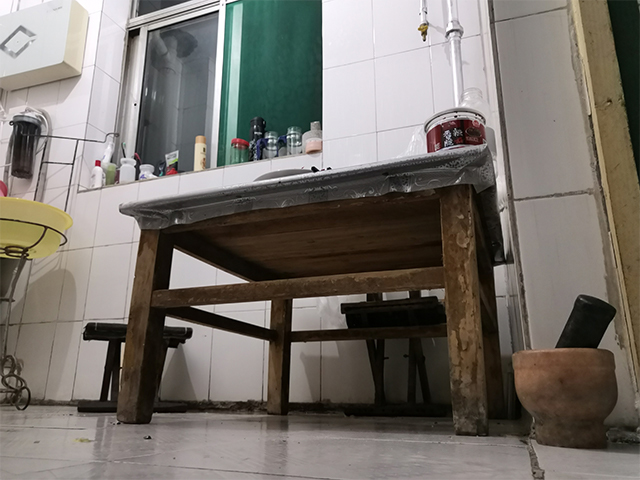stool: (340, 294, 454, 419), (76, 320, 196, 415)
table: (116, 142, 517, 437)
